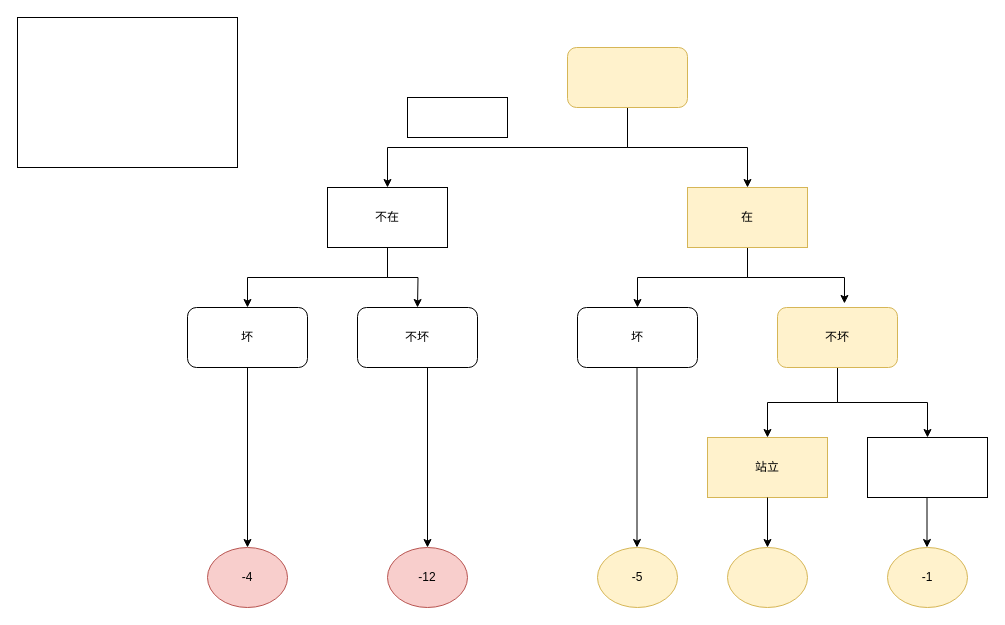
Some shapes in this 1005 by 625 pixel diagram are drawn without their labels. Each missing label, with the centre of its shape:
不站立: point (927, 467)
中心点: point (627, 77)
所有mask: point (457, 117)
背膘: point (767, 577)
黄色为有猪情况：-5、-1、背膘 相机镜头脏污： -4、-5（需要前端提示）: point (127, 92)
